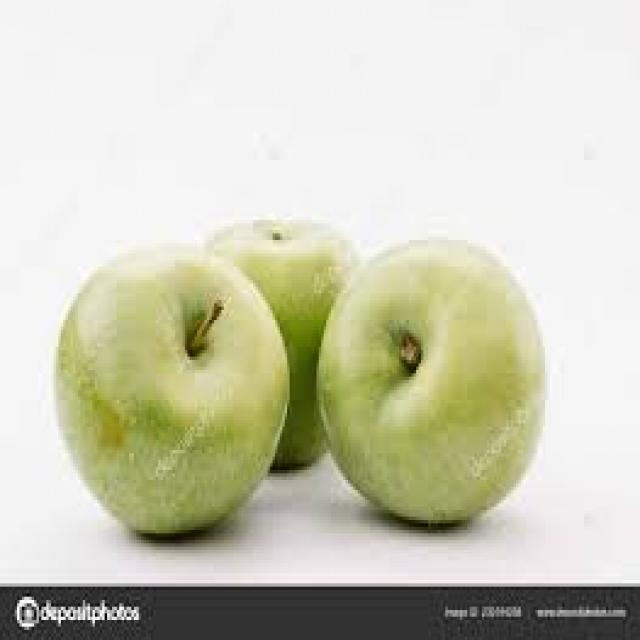Fresh Apple: (49, 243, 274, 525), (327, 255, 535, 533)
